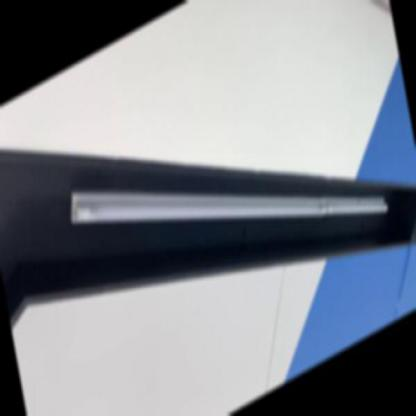light_off: (60, 15, 397, 388)
